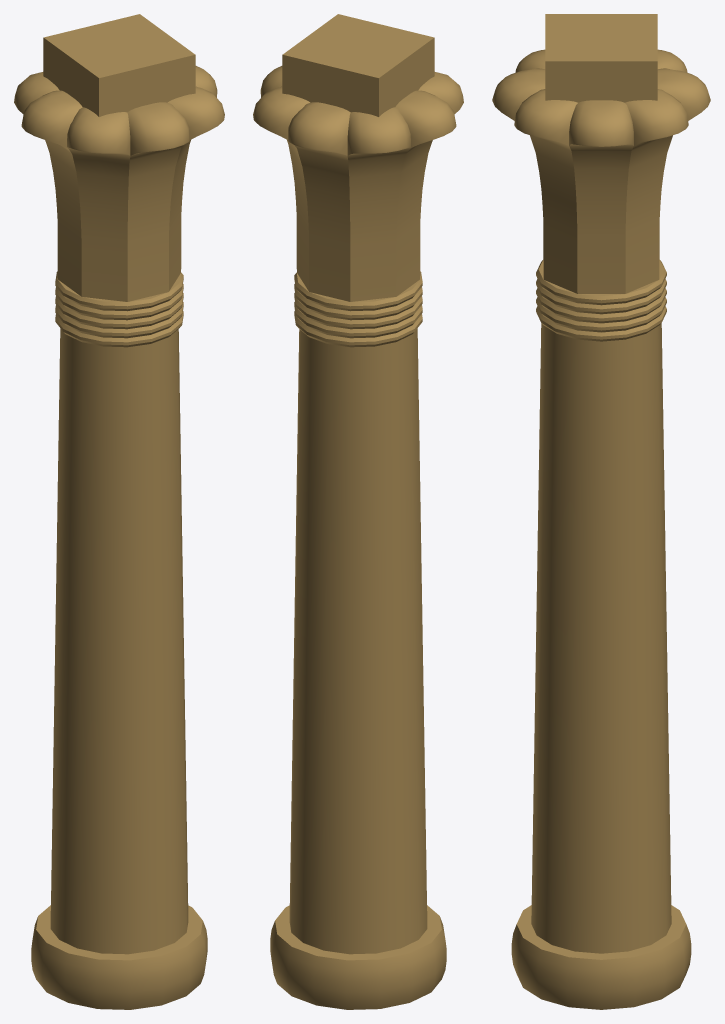
File: PalmColumn_low 1.fbx
The picture shows the model from 3 angles, left to right: view 1: azimuth 30°, elevation 25°; view 2: azimuth 150°, elevation 25°; view 3: azimuth 270°, elevation 25°; orthographic projection.
Visible parts, largest first — view 1: PalmColumn_low; view 2: PalmColumn_low; view 3: PalmColumn_low.
Part boxes in pixels (x1,y1,x2,y2): PalmColumn_low: [14, 14, 224, 1009]; PalmColumn_low: [253, 14, 463, 1009]; PalmColumn_low: [492, 14, 710, 1009].
Size of the model in its own units: 1.69 by 8 by 1.69.
